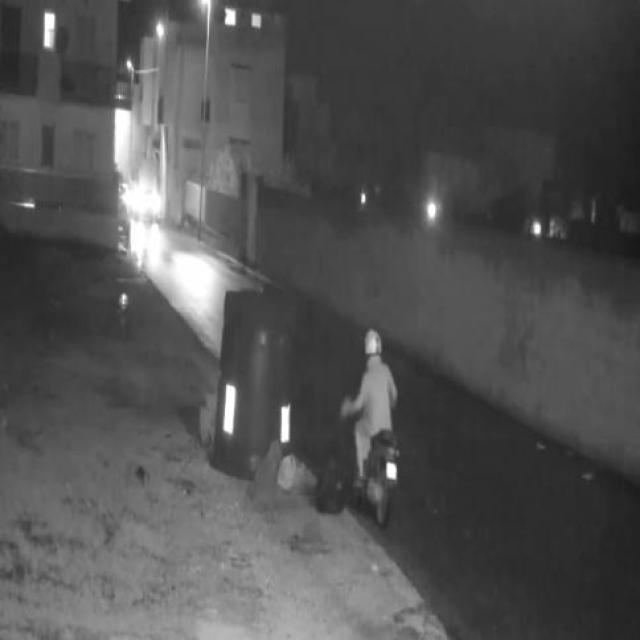Anorganik: (316, 422, 362, 506)
